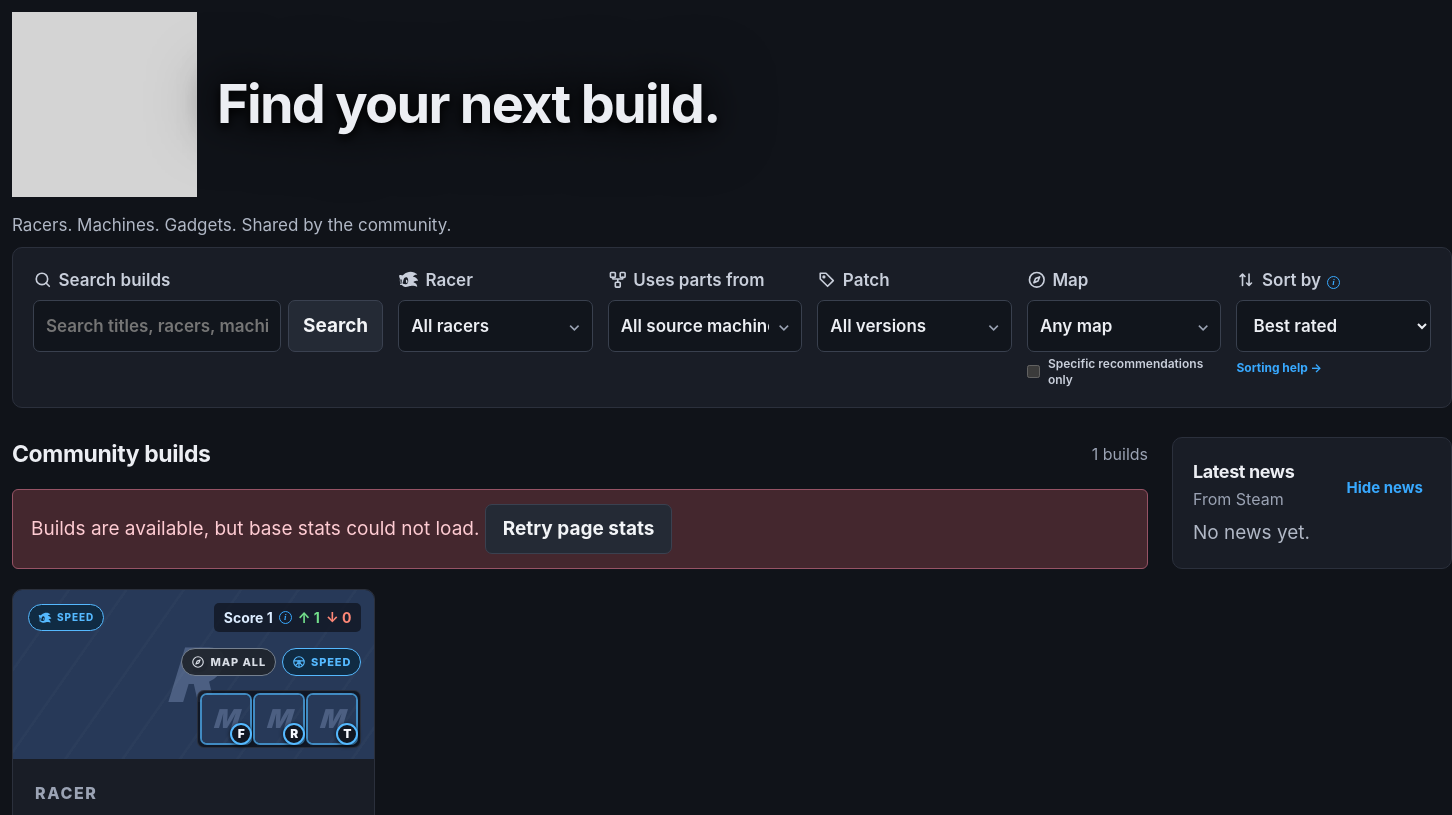
Test: keeps the browse page usable on enrichment failure and retries the page as a whole
Click the button "Retry page stats". click: [579, 529]
box: [485, 504, 672, 554]
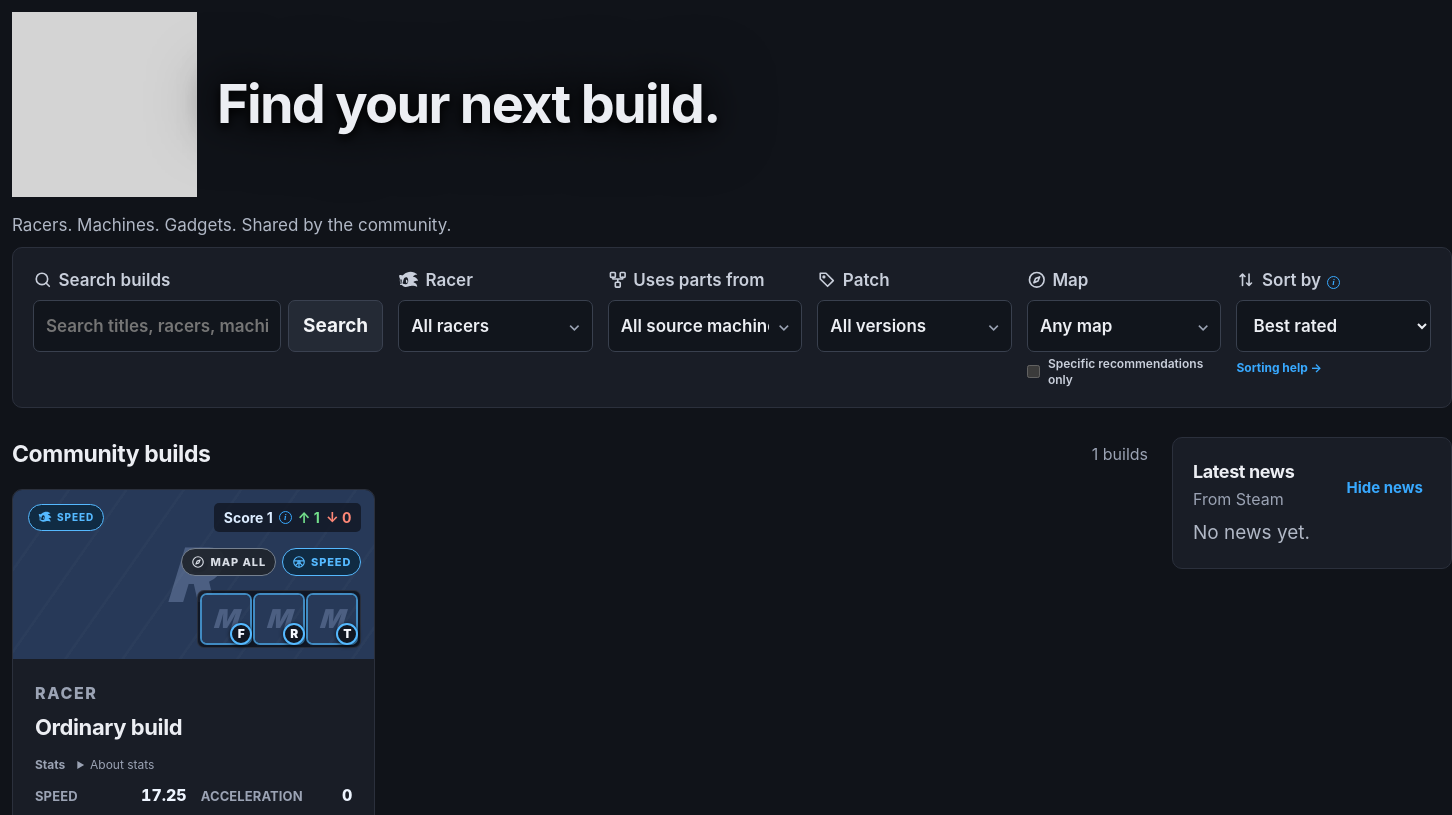
Expected: the text "17.25" is shown, [141, 783, 187, 807]
